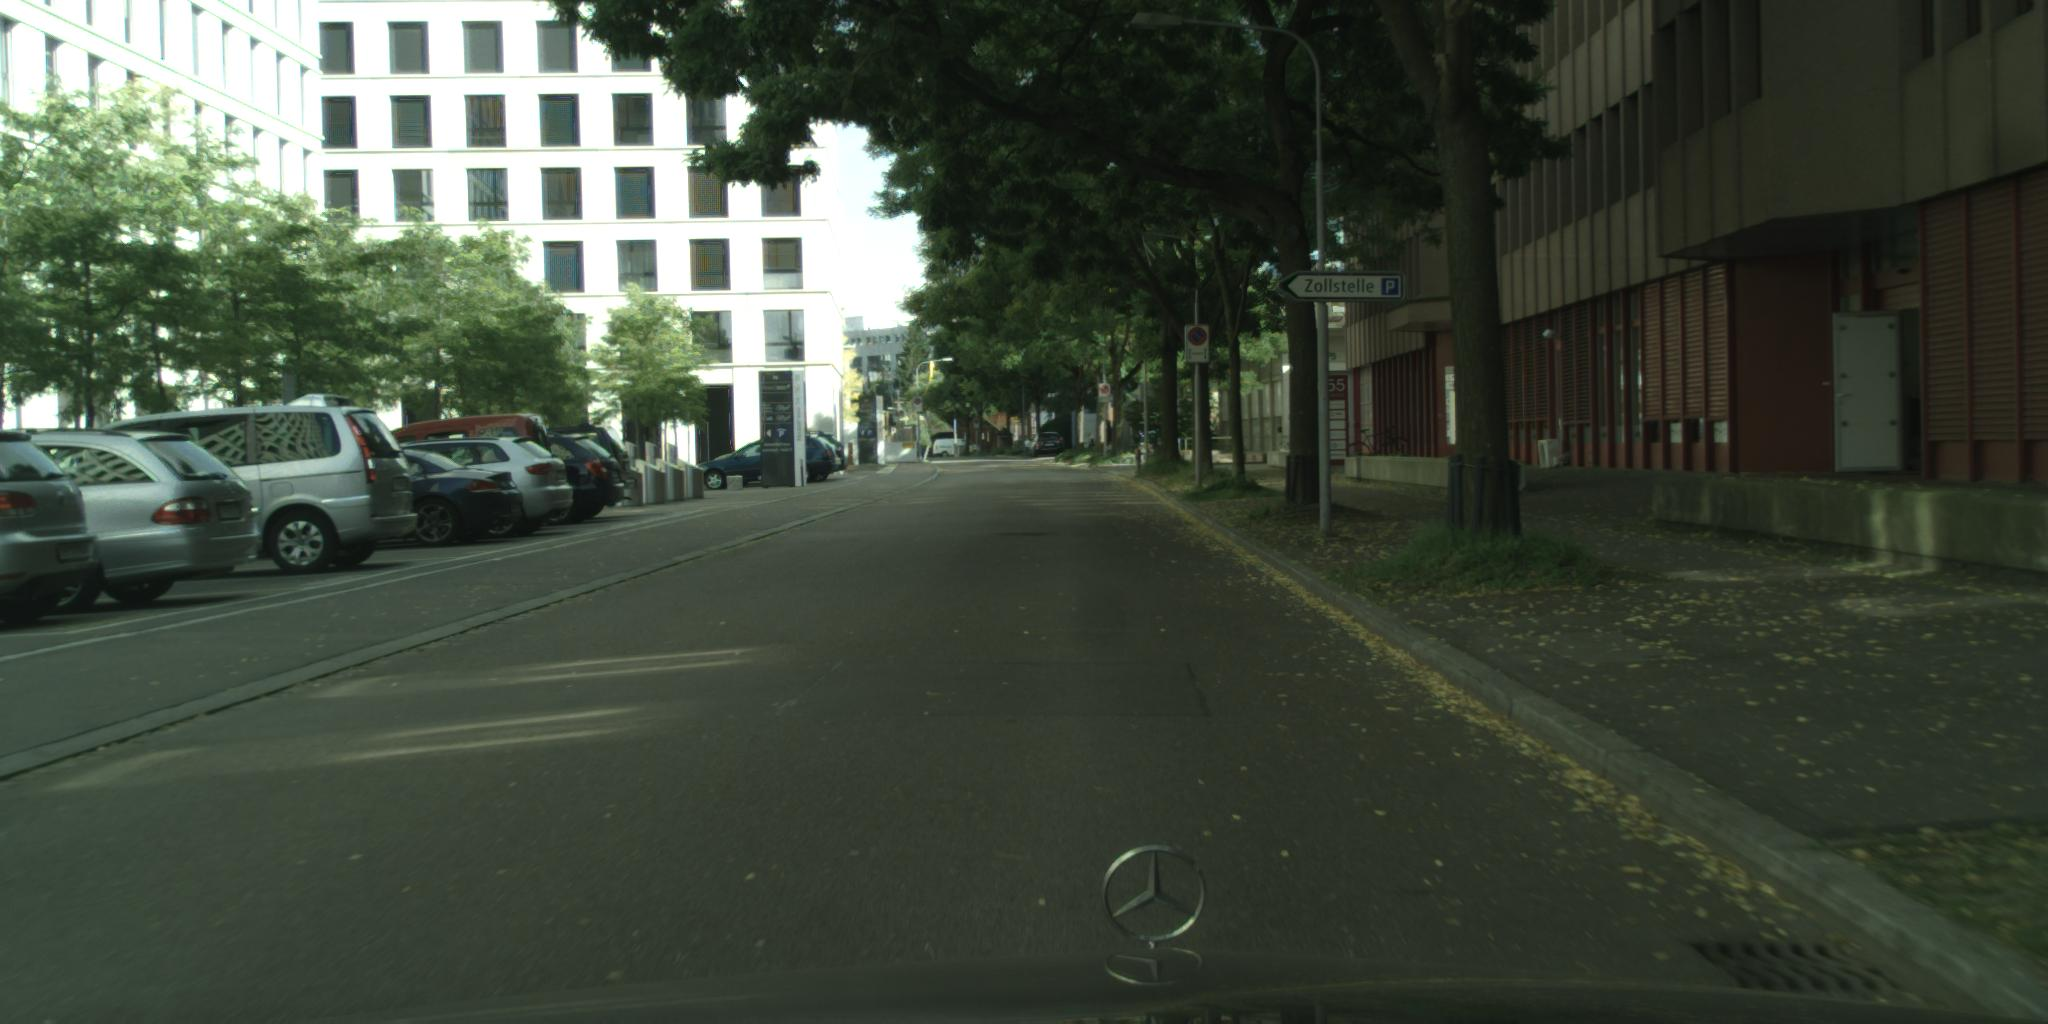car: (76, 396, 418, 576), (9, 428, 259, 618), (1, 428, 98, 631), (389, 438, 575, 539), (377, 447, 526, 547), (528, 431, 631, 526), (385, 414, 552, 473), (695, 434, 842, 492), (543, 426, 637, 492), (799, 430, 852, 475), (1031, 432, 1066, 458)
